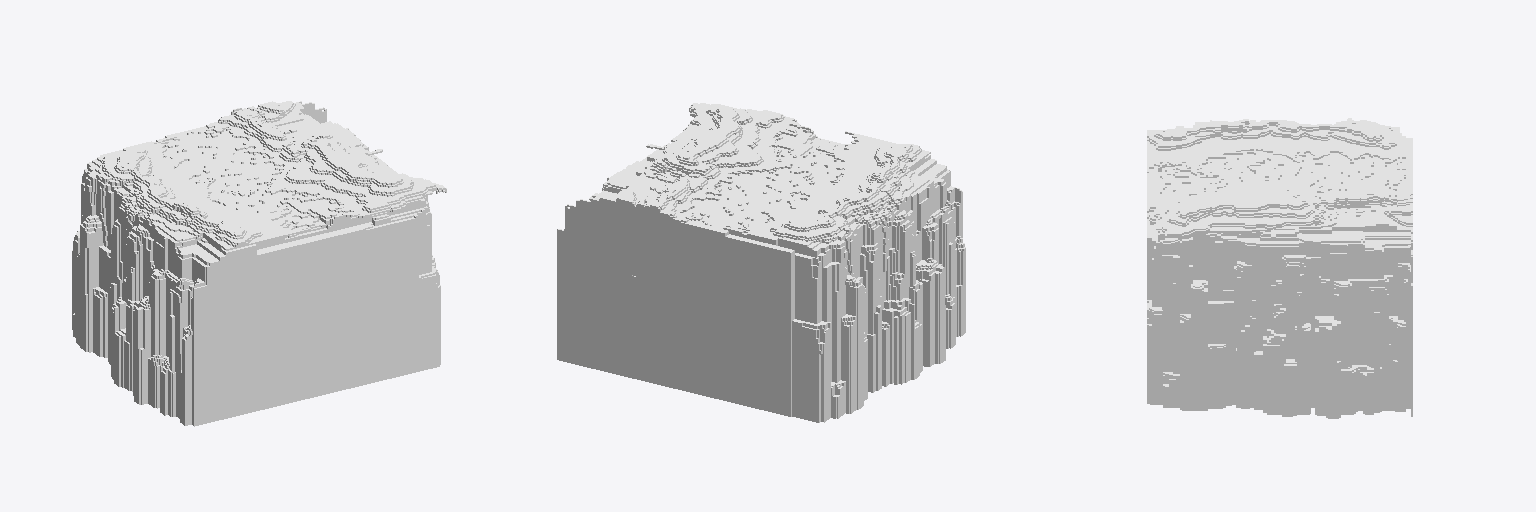
The model's file is Cubeland-15.obj.
The picture shows the model from 3 angles: view 1: azimuth 30°, elevation 25°; view 2: azimuth 150°, elevation 25°; view 3: azimuth 270°, elevation 25°; orthographic projection.
Visible parts, largest first — view 1: object 1; view 2: object 1; view 3: object 1.
Part boxes in pixels (x1,y1,x2,y2): object 1: (72, 101, 446, 426); object 1: (557, 103, 965, 422); object 1: (1147, 118, 1412, 418).
Size of the model in its own units: 18.4 by 10.8 by 14.4.